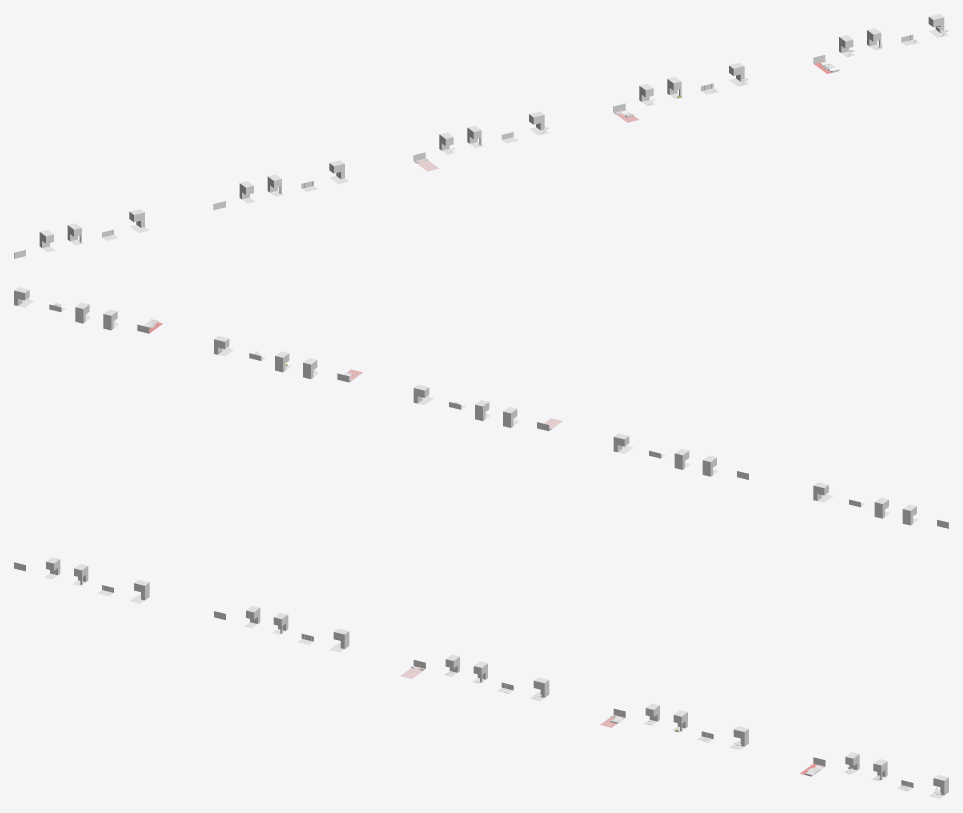
3 views of the same model, one above another, from view 1: azimuth 30°, elevation 25°; view 2: azimuth 150°, elevation 25°; view 3: azimuth 330°, elevation 25° (orthographic).
Bounding box in the file's own units: 465 × 7 × 17.5.
